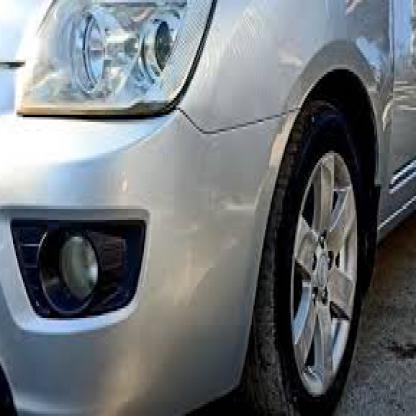dent: (218, 174, 262, 234)
